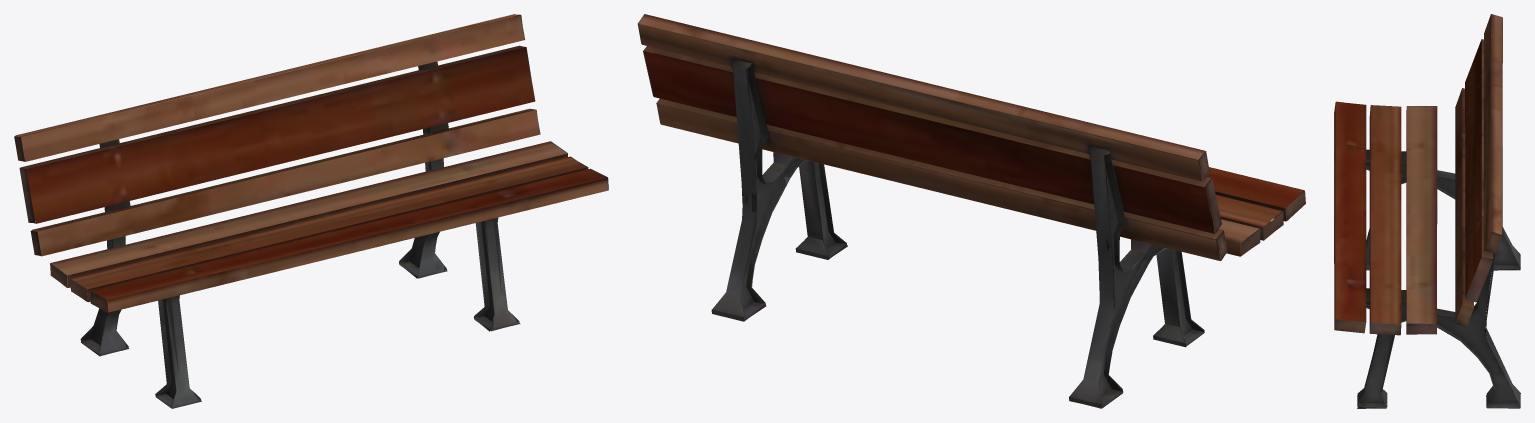
Rendered from bench_far.glb.
3 views of the same model, side by side, from view 1: azimuth 30°, elevation 25°; view 2: azimuth 150°, elevation 25°; view 3: azimuth 270°, elevation 25° (orthographic). The views are drawn at different scales.
Visible parts, largest first — view 1: baked; view 2: baked; view 3: baked.
Boxes of the visible parts, bbox=[...] form: baked: bbox=[14, 14, 608, 408]; baked: bbox=[637, 14, 1305, 408]; baked: bbox=[1334, 14, 1520, 408].
Size of the model in its own units: 2 by 0.8997 by 0.723.
Materials: 1 (1 with a texture image).
